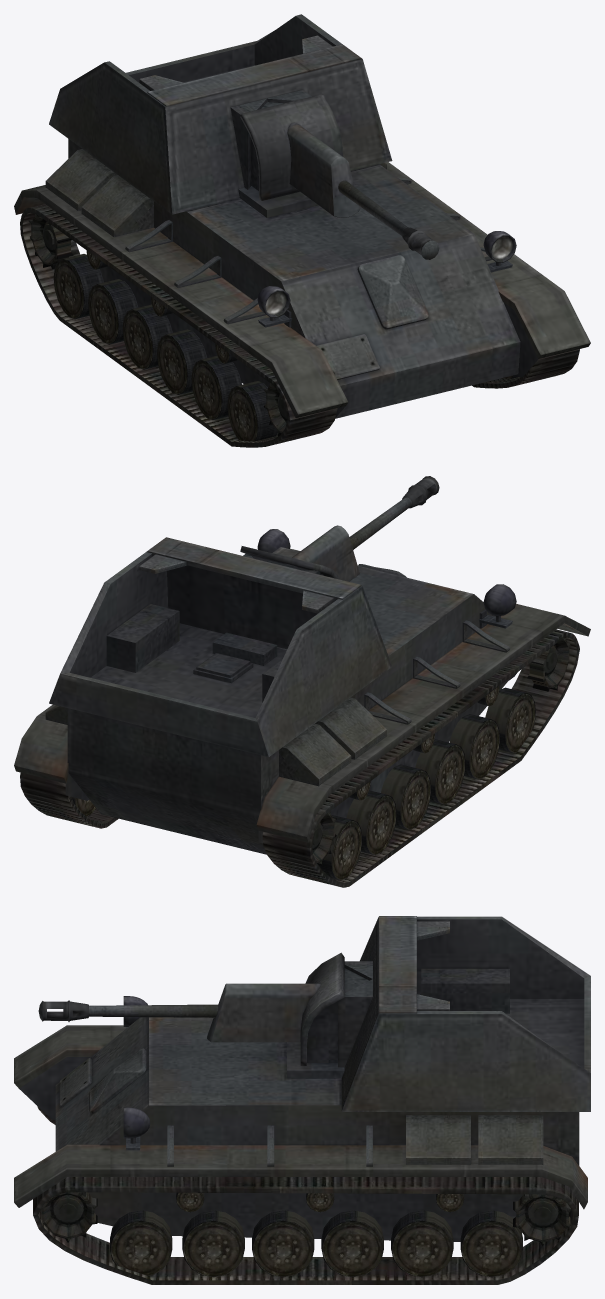
3 renders of one model, top to bottom at view 1: azimuth 30°, elevation 25°; view 2: azimuth 150°, elevation 25°; view 3: azimuth 270°, elevation 25°, orthographic.
Visible parts, largest first — view 1: 自行火炮 SU76; view 2: 自行火炮 SU76; view 3: 自行火炮 SU76.
Boxes of the visible parts, <box> form: 自行火炮 SU76: <box>14,14,590,447</box>; 自行火炮 SU76: <box>14,476,590,887</box>; 自行火炮 SU76: <box>14,916,590,1284</box>.
Bounding box in the file's own units: 1.68 × 1.36 × 2.85.
Materials: 2 (2 with a texture image).
